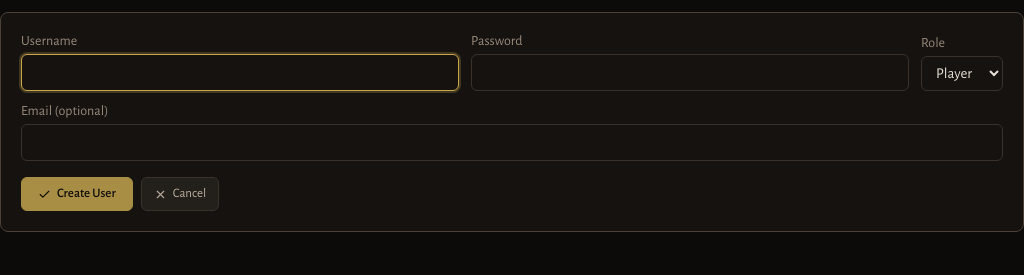
Scenario: AddUserForm › shows API error message when creation fails
This screenshot has width=1024, height=275.
Type "duplicate" into the field labelled "Username" at (240, 72), box [21, 54, 459, 91]
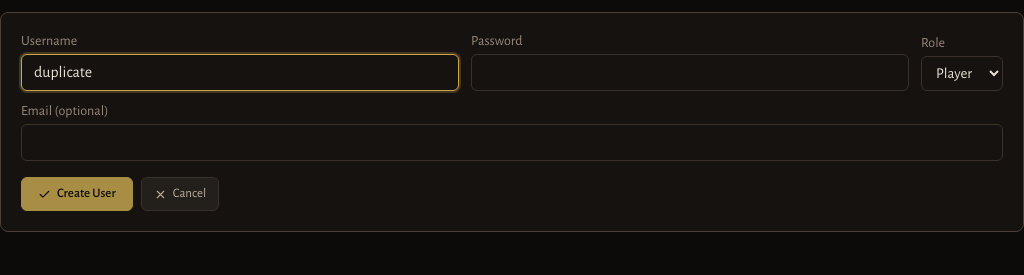
Type "validpassword" into the password field labelled "Password" at (690, 72), box [471, 54, 909, 91]
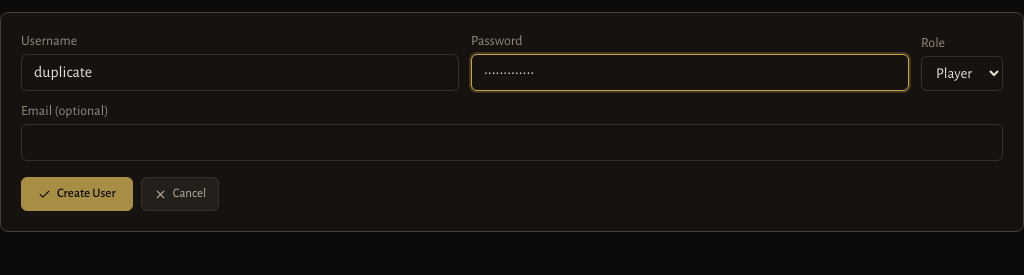
Click the button "Create User" at (77, 194), box [21, 177, 133, 211]
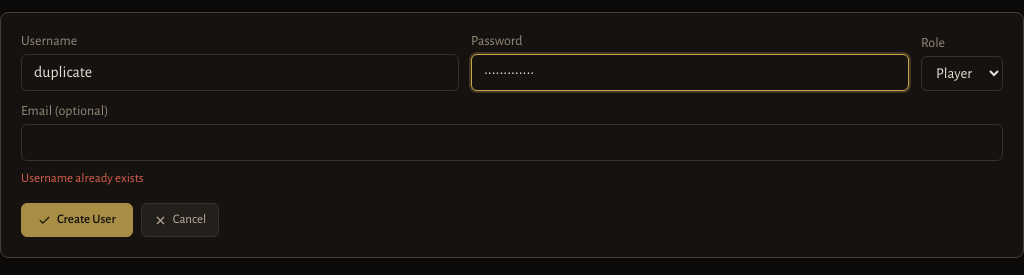
expect the text "Username already exists" is shown: met, box [21, 172, 144, 185]
